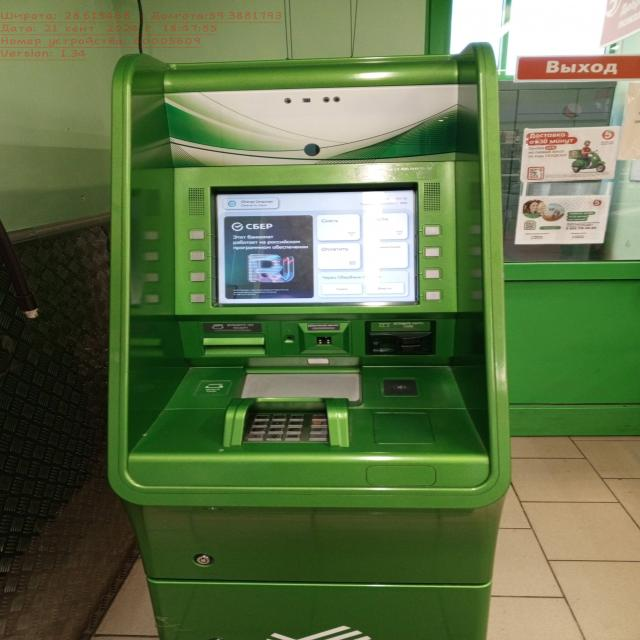bank: (99, 39, 519, 640)
